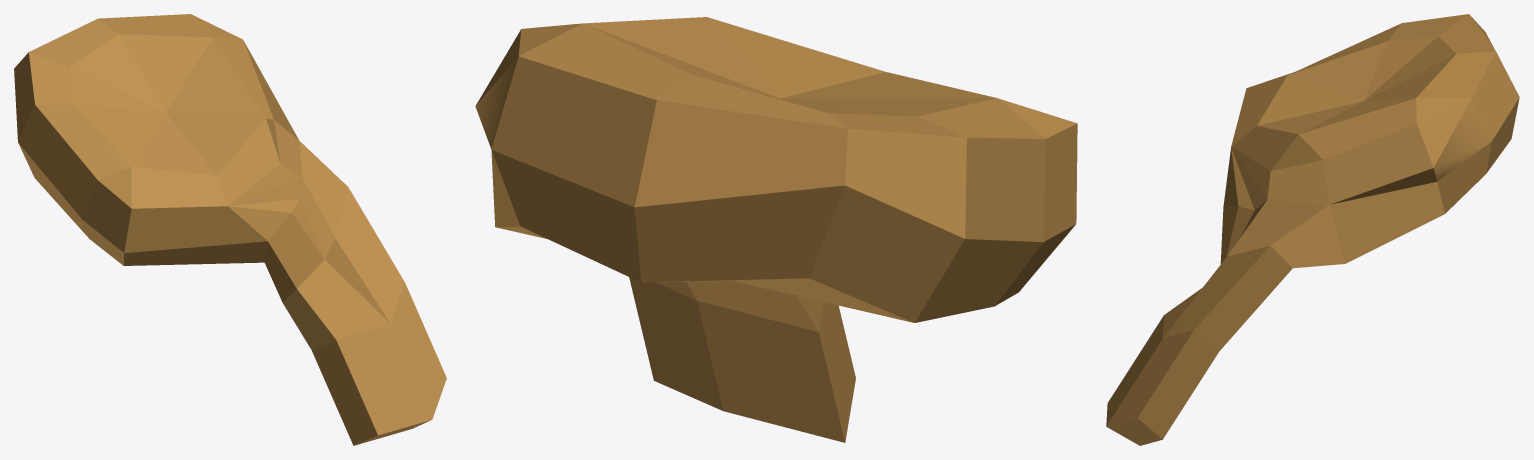
Rendered from SM_Chr_Attach_Insurgent_Neck_02.fbx.
The picture shows the model from 3 angles, left to right: view 1: azimuth 30°, elevation 25°; view 2: azimuth 150°, elevation 25°; view 3: azimuth 270°, elevation 25°; orthographic projection. The views are drawn at different scales.
Visible parts, largest first — view 1: SM_Chr_Attach_Insurgent_Neck_02; view 2: SM_Chr_Attach_Insurgent_Neck_02; view 3: SM_Chr_Attach_Insurgent_Neck_02.
Part boxes in pixels (<box>): SM_Chr_Attach_Insurgent_Neck_02: <box>14,14,446,445</box>; SM_Chr_Attach_Insurgent_Neck_02: <box>475,17,1077,442</box>; SM_Chr_Attach_Insurgent_Neck_02: <box>1106,14,1519,445</box>.
Bounding box in the file's own units: 23.98 × 25.14 × 28.85.
